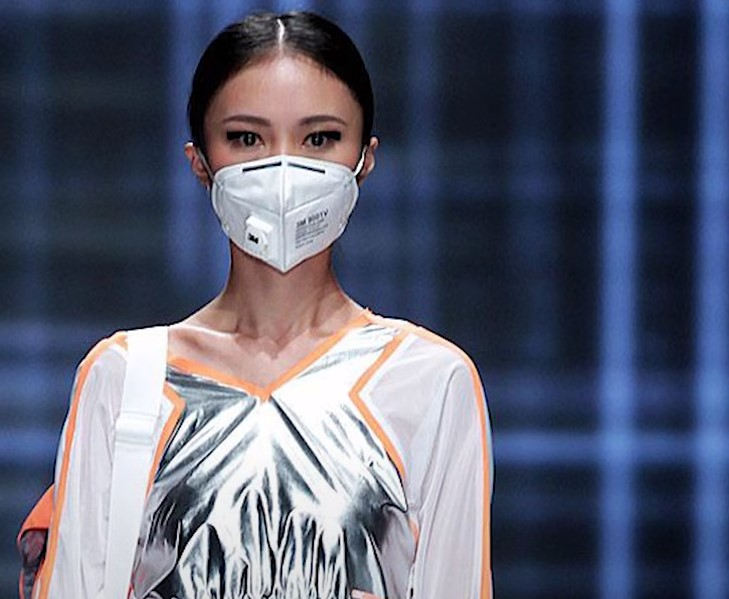face_with_mask: (182, 11, 378, 277)
